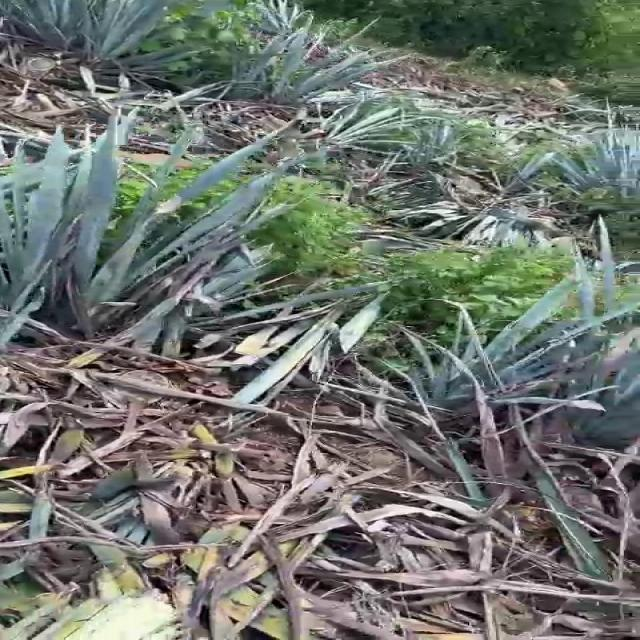agave: (0, 121, 227, 364), (409, 265, 640, 467)
